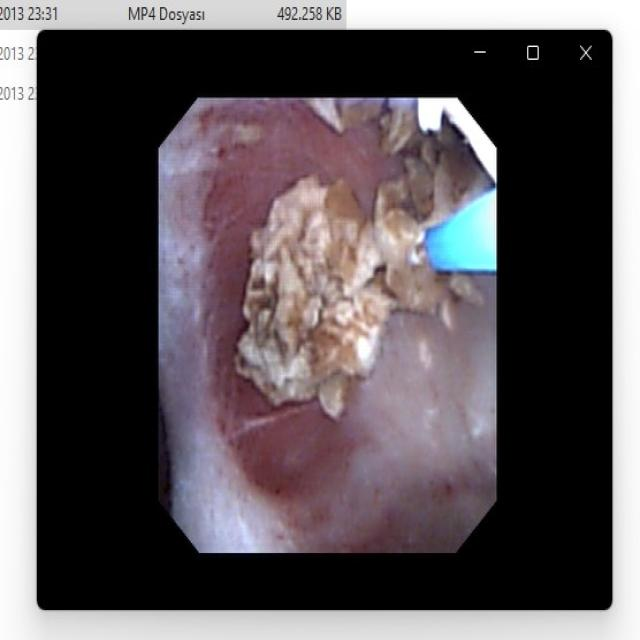fiber: (432, 196, 494, 268)
stone: (242, 110, 483, 411)
